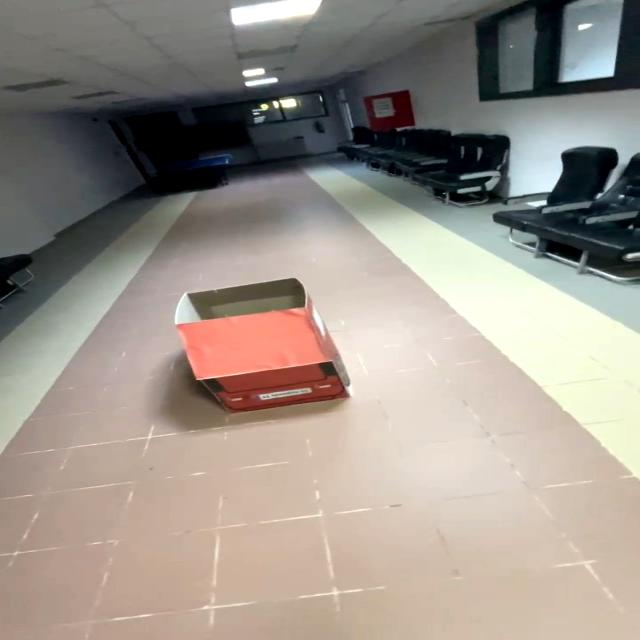red_car: (148, 257, 372, 435)
